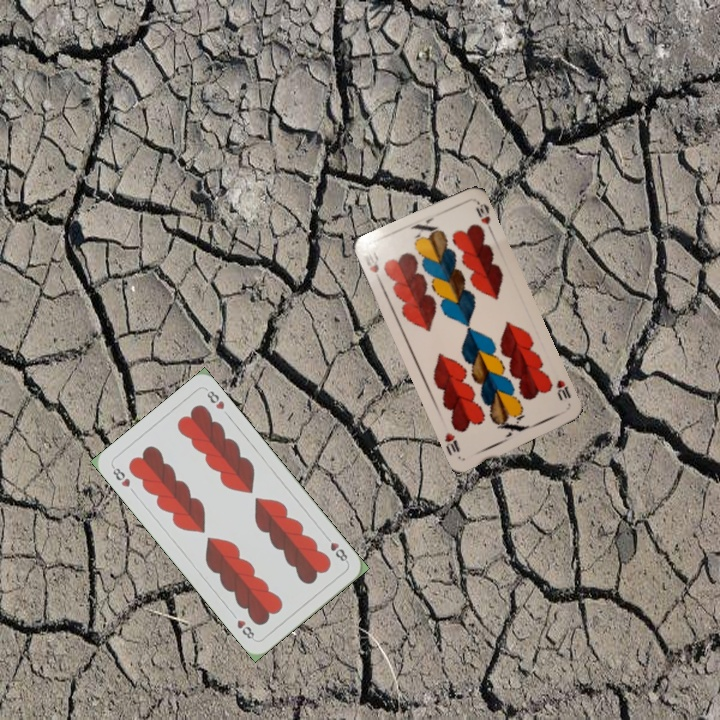H10: (357, 247, 385, 286), (551, 376, 574, 403)
H8: (321, 531, 351, 566), (108, 462, 133, 490)
